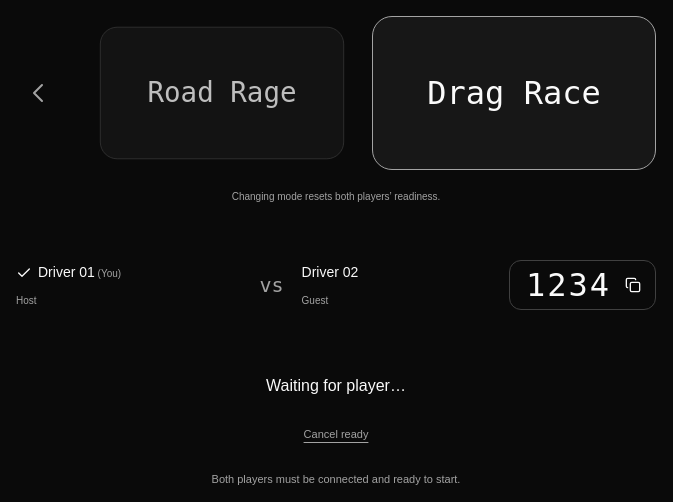
it: host start requires both ready and local focus; readiness remains reversible
The width and height of the screenshot is (673, 502).
Expected: the button "Waiting for player…" is disabled, 16,374 -> 656,398
Click the button "Cancel ready". click: (336, 434)
box: 292,412 -> 380,456
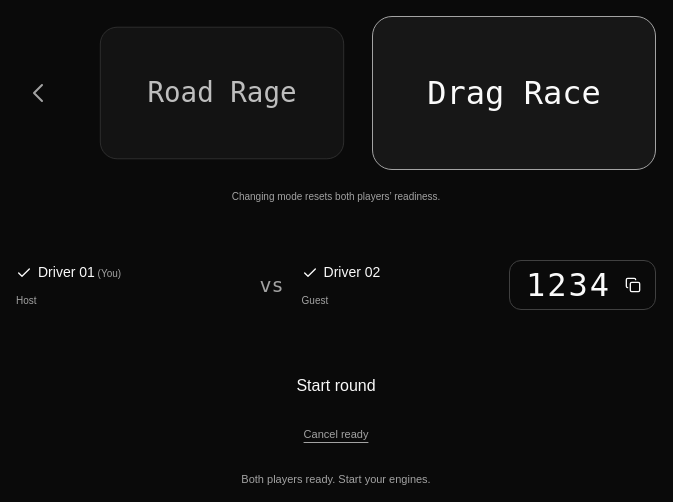
Click the button "Start round". click: (336, 386)
box: 16,374 -> 656,398
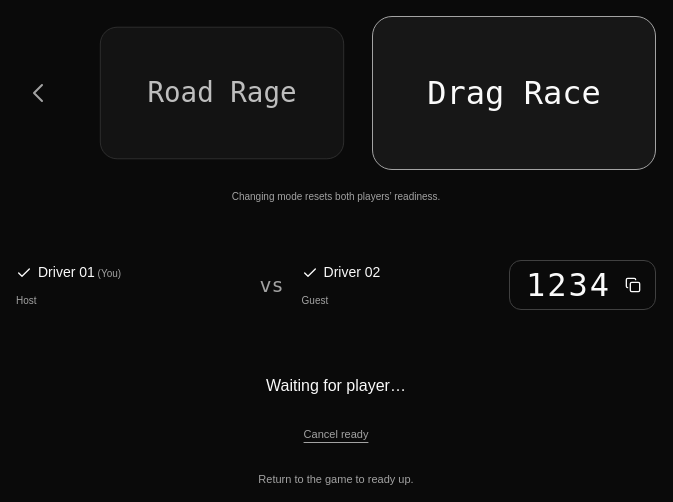
Now the text "Start round" is gone
Now the button "Waiting for player…" is disabled, box 16,374 -> 656,398
